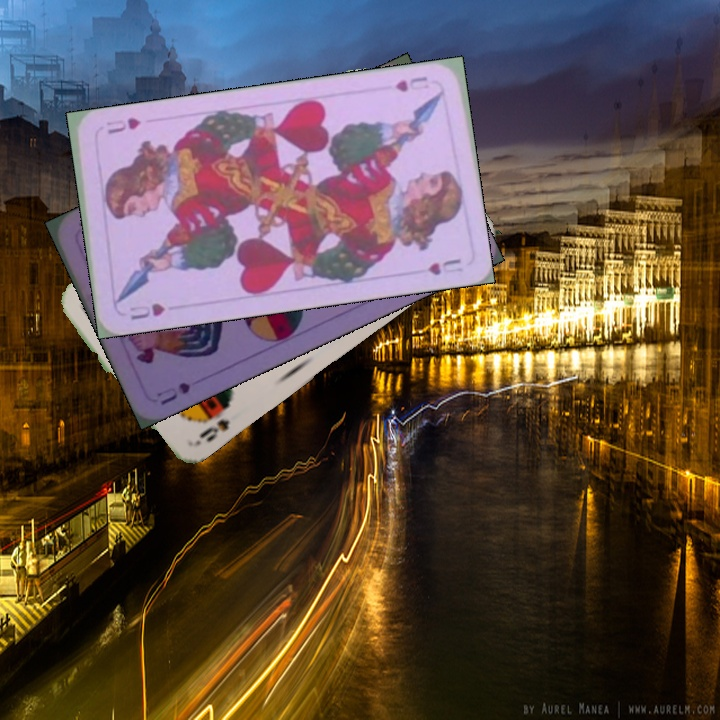HU: (125, 299, 167, 323), (390, 72, 432, 95)
SO: (190, 415, 233, 449)
SU: (152, 378, 193, 408)
